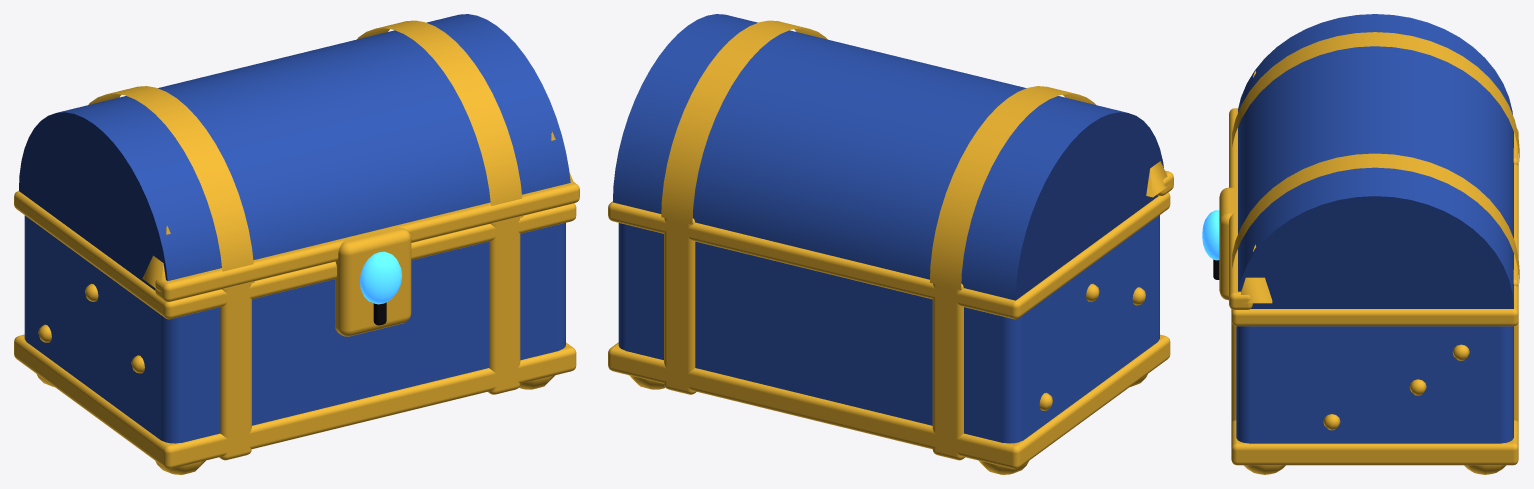
Rendered from chest_rare.glb.
The picture shows the model from 3 angles, left to right: view 1: azimuth 30°, elevation 25°; view 2: azimuth 150°, elevation 25°; view 3: azimuth 270°, elevation 25°; orthographic projection. The views are drawn at different scales.
Parts seen in each view (by area): view 1: LidBarrel, Base, LidCap-1, BaseRim, BaseTopRim, LidFrontRim, LidBand1, LidBand-1, LockPlate, Band1, Band-1, LockGem; view 2: LidBarrel, Base, LidCap-1, BaseRim, BaseTopRim, LidBand-1, LidBand1, Band1, Band-1; view 3: LidBarrel, Base, LidCap1, BaseRim, BaseTopRim, LidBand-1, LidBand1, LidFrontRim, LockPlate, Band1, LockGem, Corner1.
Boxes of the visible parts, x1,y1,x2,y2 form: LidBarrel: [57, 14, 570, 280]; Base: [24, 215, 565, 443]; LidCap-1: [19, 112, 167, 290]; BaseRim: [14, 334, 576, 469]; BaseTopRim: [14, 191, 576, 319]; LidFrontRim: [155, 181, 579, 301]; LidBand1: [357, 20, 523, 224]; LidBand-1: [88, 86, 254, 290]; LockPlate: [335, 227, 411, 336]; Band1: [488, 218, 520, 394]; Band-1: [219, 283, 251, 460]; LockGem: [360, 251, 401, 304]; LidBarrel: [613, 14, 1127, 300]; Base: [618, 215, 1159, 443]; LidCap-1: [1015, 112, 1163, 300]; BaseRim: [608, 334, 1170, 469]; BaseTopRim: [608, 192, 1170, 319]; LidBand-1: [930, 86, 1095, 290]; LidBand1: [661, 20, 827, 224]; Band1: [664, 218, 696, 394]; Band-1: [932, 283, 964, 460]; LidBarrel: [1238, 14, 1513, 307]; Base: [1236, 326, 1513, 443]; LidCap1: [1238, 196, 1513, 308]; BaseRim: [1231, 420, 1518, 465]; BaseTopRim: [1231, 129, 1518, 326]; LidBand-1: [1232, 32, 1519, 161]; LidBand1: [1232, 153, 1519, 282]; LidFrontRim: [1229, 108, 1252, 309]; LockPlate: [1219, 187, 1234, 300]; Band1: [1231, 269, 1518, 422]; LockGem: [1202, 210, 1219, 260]; Corner1: [1238, 244, 1272, 303].
Size of the model in its own units: 0.936 by 0.676 by 0.6627.
